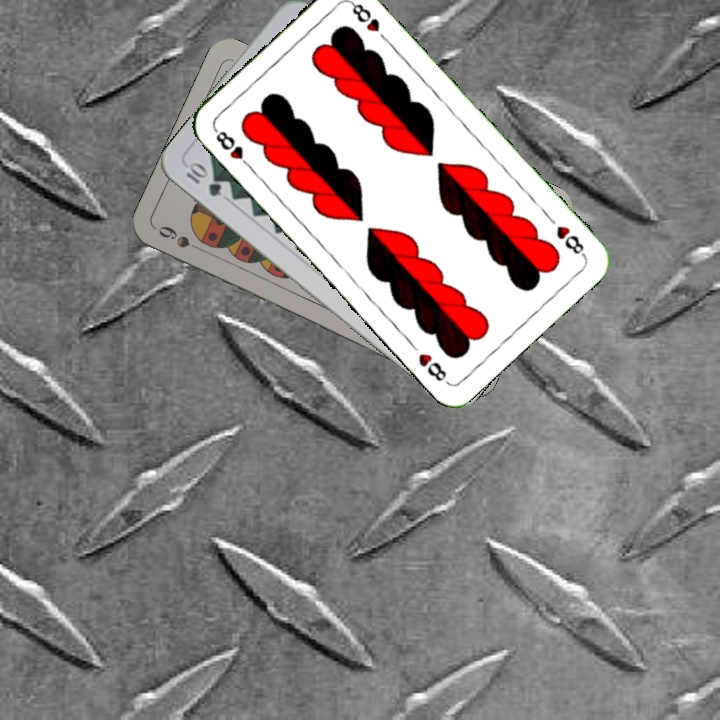G10: (182, 159, 225, 200)
H8: (209, 124, 255, 172), (552, 221, 588, 259)
S9: (154, 221, 209, 256)
